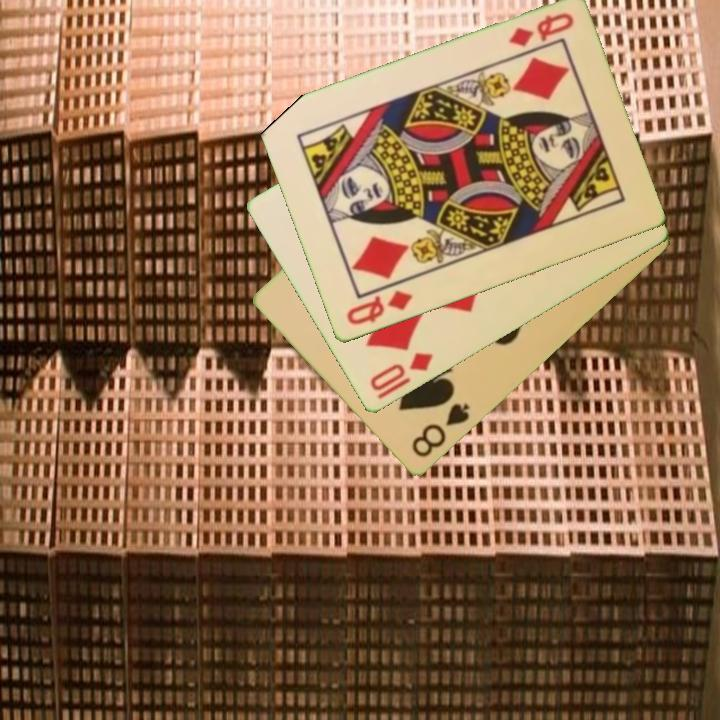10d: (366, 349, 436, 403)
8s: (408, 400, 473, 461)
Qd: (342, 287, 415, 329), (505, 10, 577, 51)
